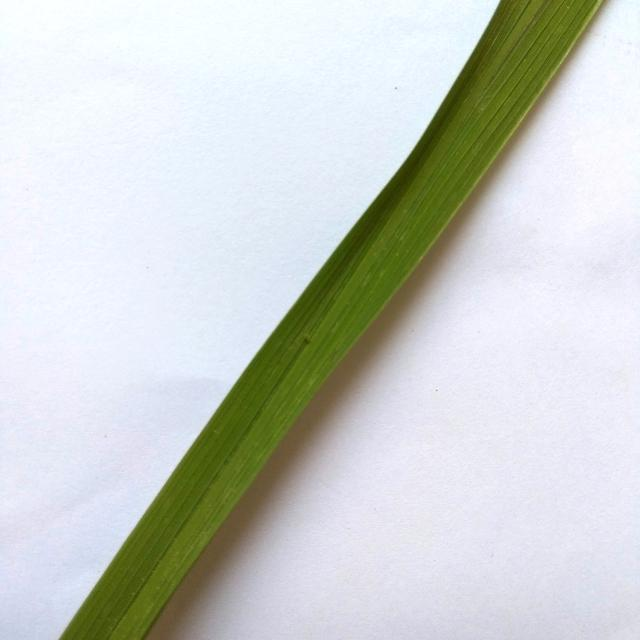Rice_Healthy: (61, 0, 602, 640)
